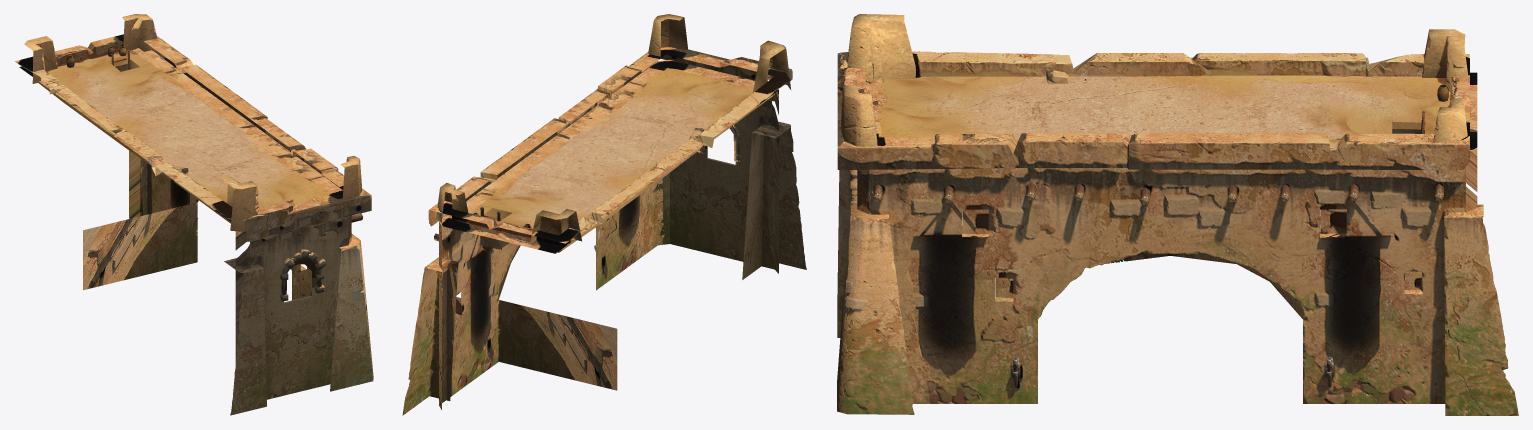
Rendered from CityGate_101_1.FBX.
The picture shows the model from 3 angles, left to right: view 1: azimuth 30°, elevation 25°; view 2: azimuth 150°, elevation 25°; view 3: azimuth 270°, elevation 25°; orthographic projection. The views are drawn at different scales.
Visible parts, largest first — view 1: CityGate_1; view 2: CityGate_1; view 3: CityGate_1.
Boxes of the visible parts, x1=… form: CityGate_1: x1=15, y1=14, x2=373, y2=415; CityGate_1: x1=402, y1=14, x2=806, y2=415; CityGate_1: x1=837, y1=14, x2=1518, y2=415.
Bounding box in the file's own units: 47.58 × 65.76 × 132.
